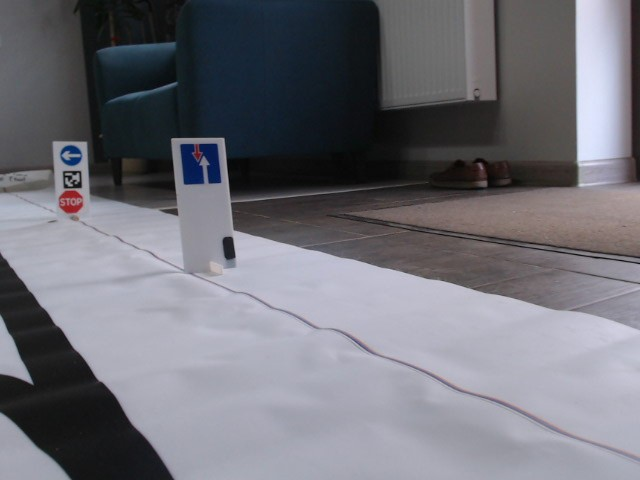Stop: (56, 189, 85, 214)
priority_movement: (178, 142, 225, 186)
